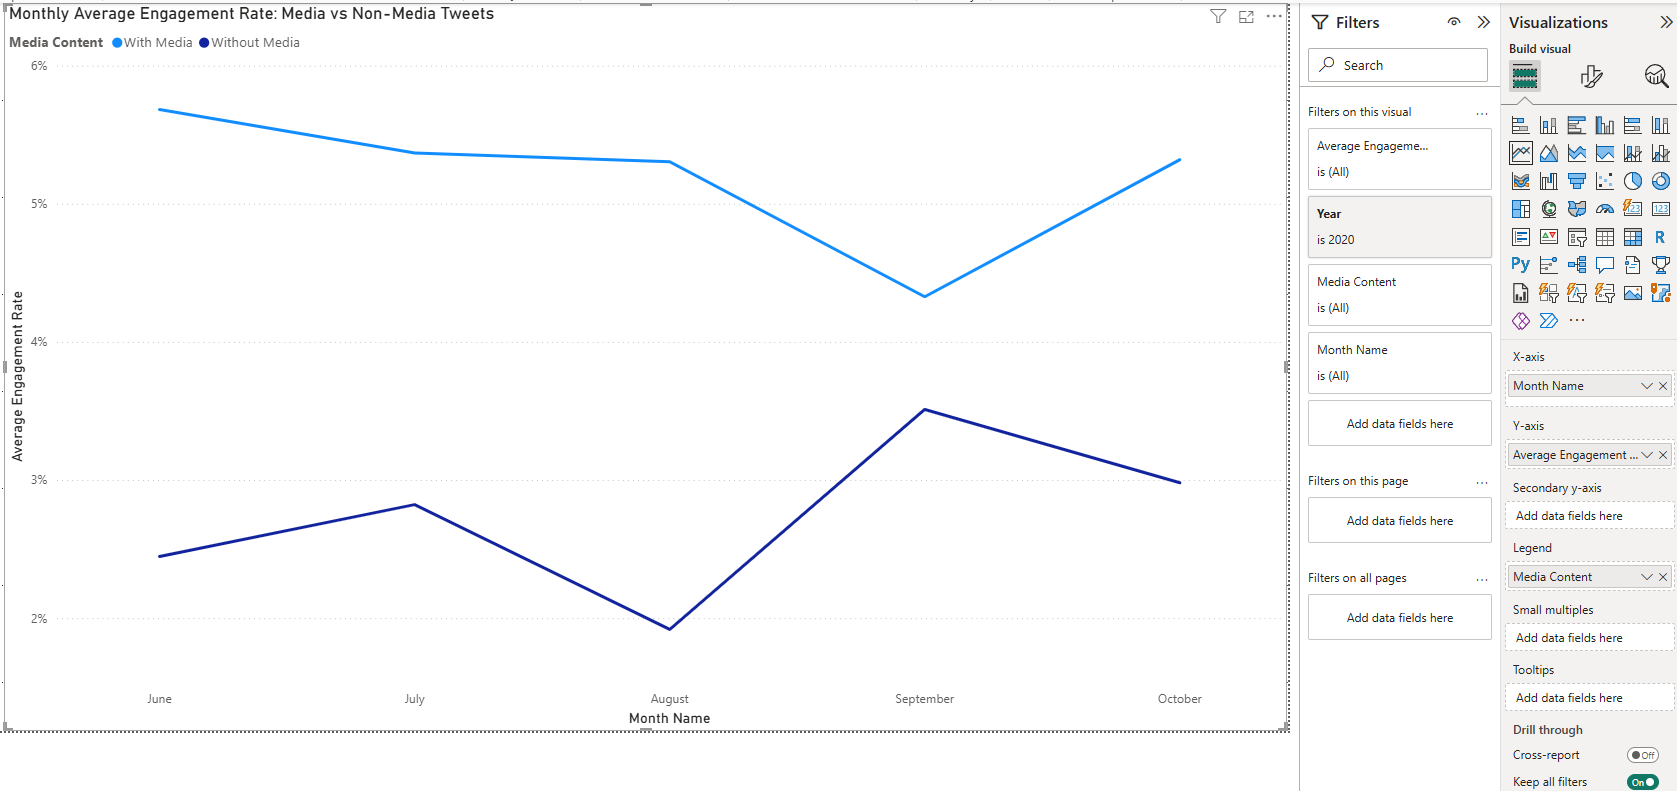

The page's visual inventory and layout, read from the dashboard file:
{"tool":"powerbi","page":{"name":"Task 5","canvas":[1280,720],"ordinal":4},"visuals":[{"type":"lineChart","title":"Monthly Average Engagement Rate: Media vs Non-Media Tweets","fields":{"Category":["SocialMedia (1).Month Name"],"Y":["SocialMedia (1).Average Engagement Rate"],"Series":["SocialMedia (1).Media Content"]},"box":[9.9,0,1269.8,720.5],"z":0}]}

Visuals, with their boxes on the page's 1280x720 design canvas (x1, y1, x2, y2). These are canvas units, not pixel positions in the 1677x791 screenshot, which may show the page scaled, cropped or inside an application window:
"Monthly Average Engagement Rate: Media vs Non-Media Tweets" lineChart: 10:0:1280:720
